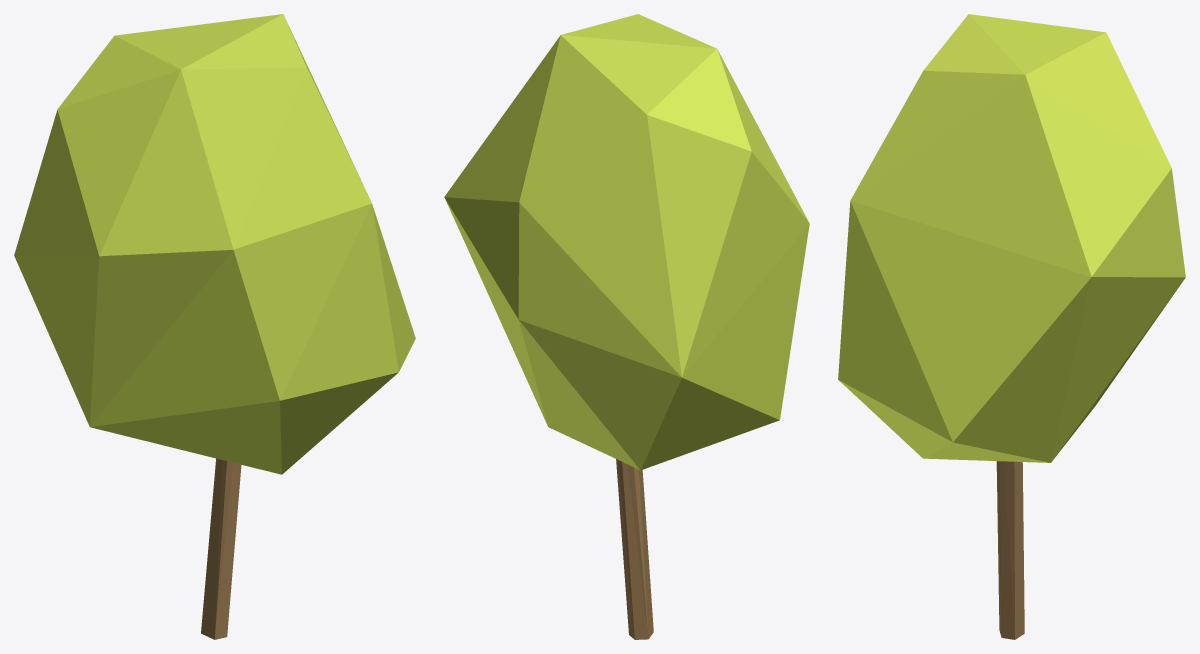
File: tree1.fbx
3 views of the same model, side by side, from view 1: azimuth 30°, elevation 25°; view 2: azimuth 150°, elevation 25°; view 3: azimuth 270°, elevation 25° (orthographic).
Parts seen in each view (by area): view 1: tree2.005; view 2: tree2.005; view 3: tree2.005.
Boxes of the visible parts, x1,y1,x2,y2 form: tree2.005: (14, 14, 415, 639); tree2.005: (444, 14, 809, 639); tree2.005: (838, 14, 1185, 639).
Bounding box in the file's own units: 342 × 620 × 328.
